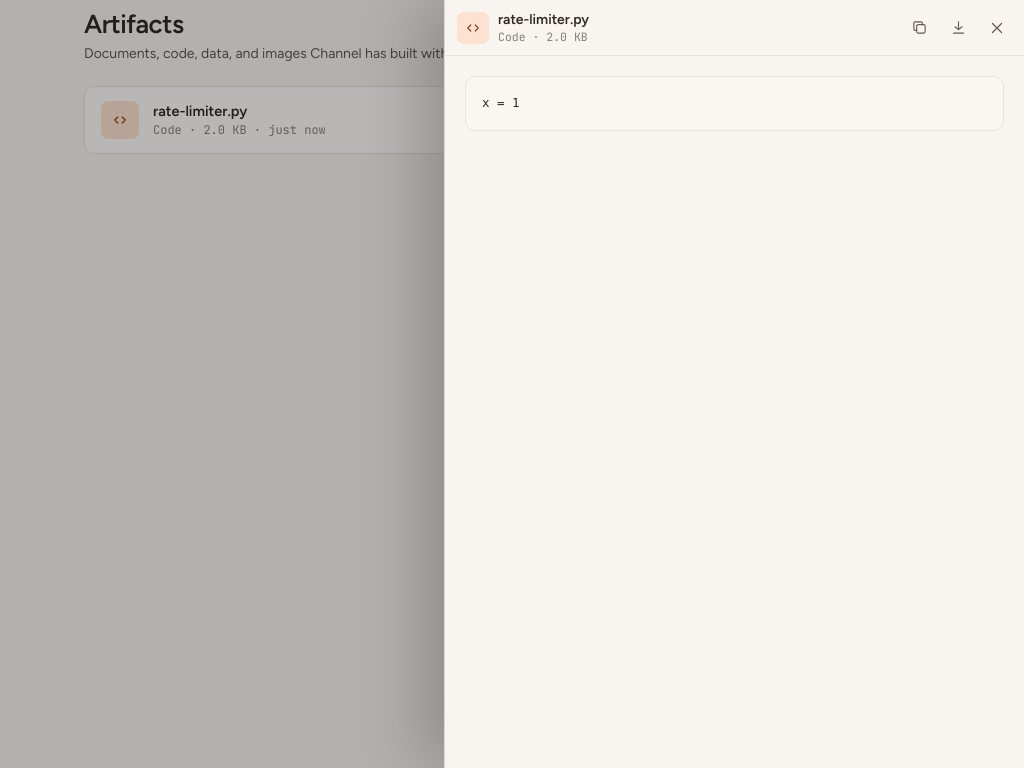
Test: Artifacts › Close clears both params and removes the panel
The image size is (1024, 768).
Click the button titled "Close" at (997, 28), box [982,12,1012,42]
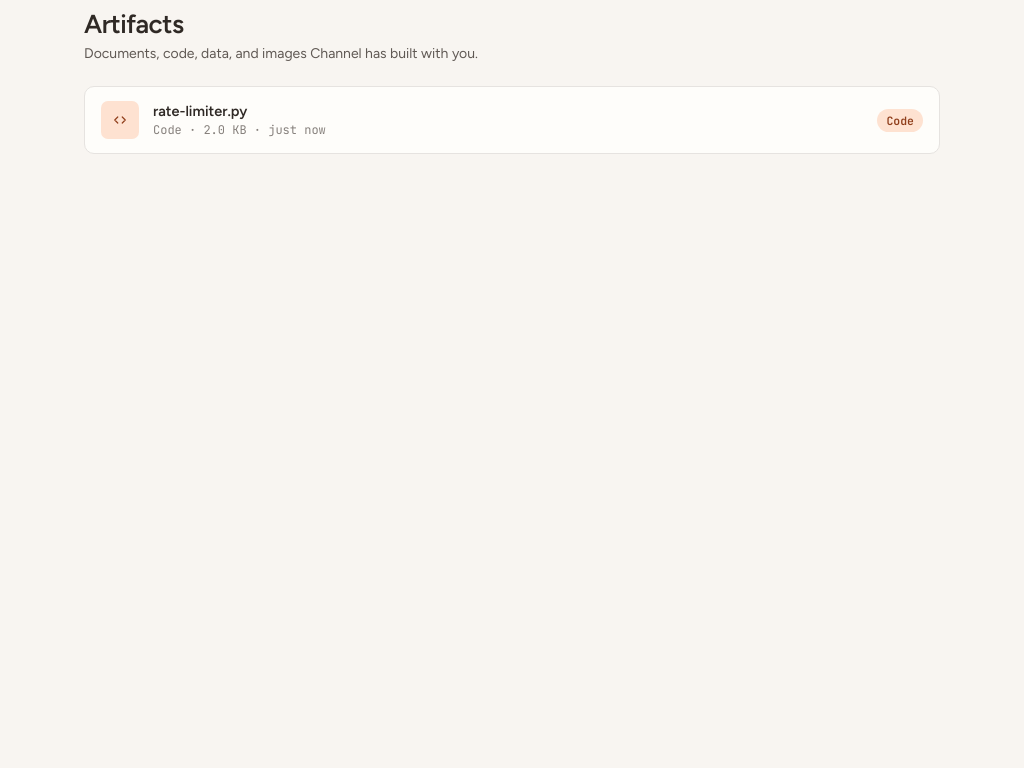
Now the element with class "art-panel-wrap" is gone
